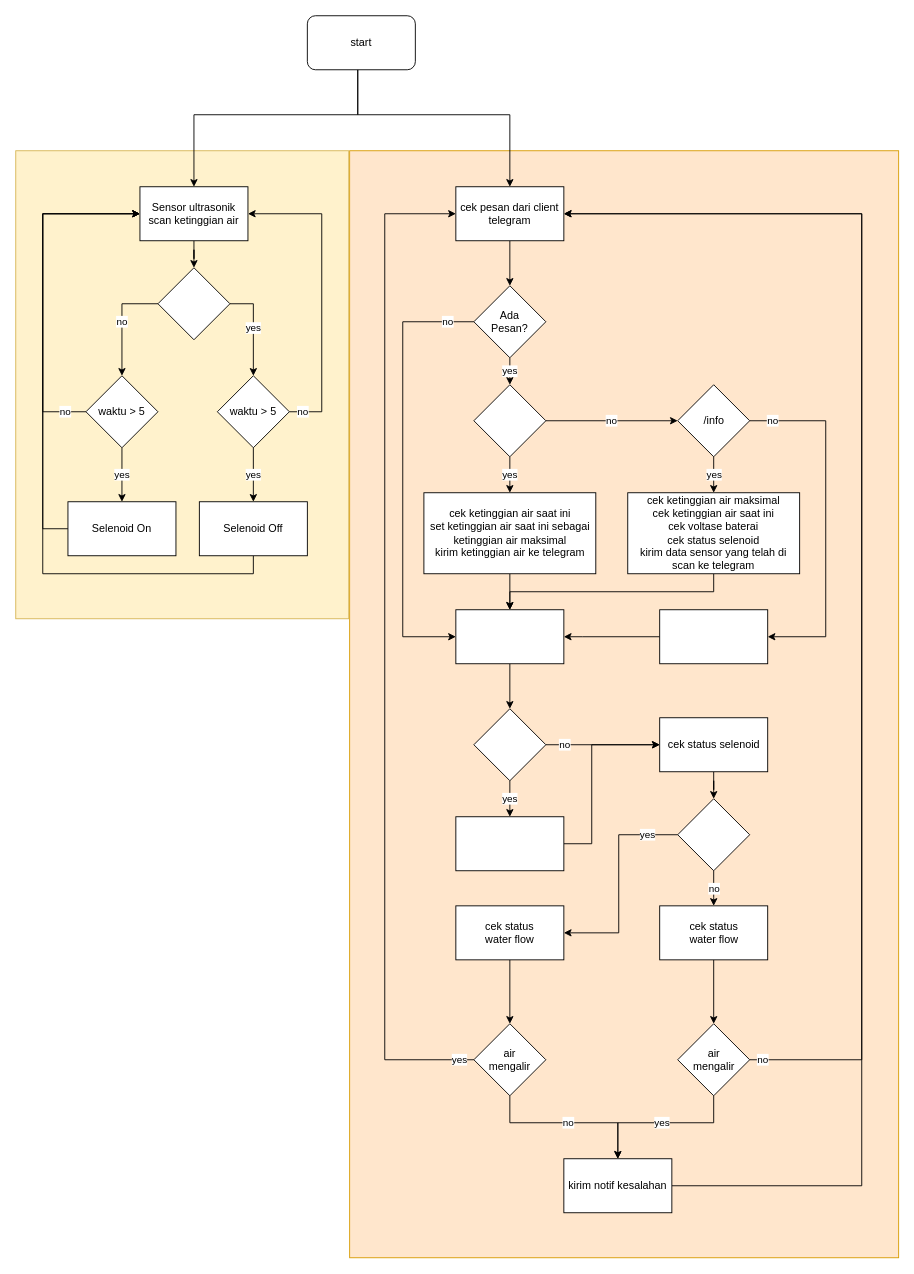
The diagram is 914 pixels wide and 1274 high, and some of its shapes have lost their labels. Each missing label, with the box of its shape:
/reset: (473, 384, 546, 457)
Air tinggi: (157, 267, 230, 340)
Baterai Lemah?: (473, 708, 546, 781)
cek voltase baterai: (455, 609, 564, 664)
Core 1: (349, 150, 899, 1258)
Core 2: (15, 150, 349, 619)
Hidup: (677, 798, 750, 871)
Kirim notif Baterai Lemah: (455, 816, 564, 871)
kirim pesan kesalahan ke telegram: (659, 609, 768, 664)
